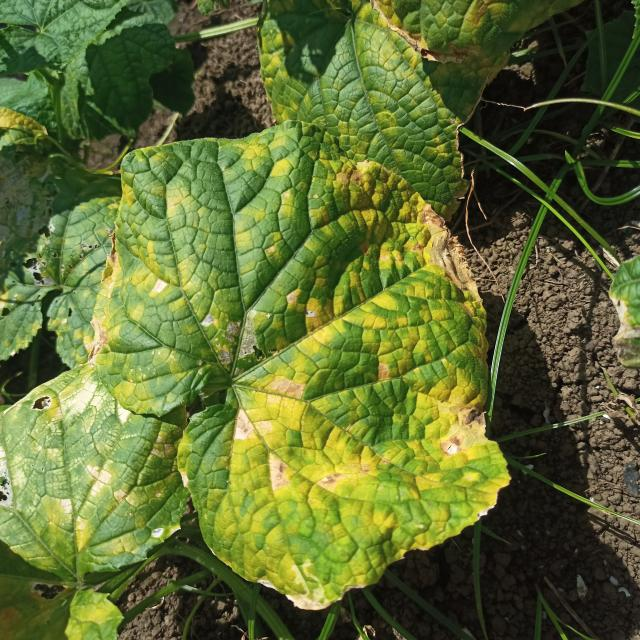disease_cucumber: (88, 120, 508, 606), (0, 367, 186, 577)
